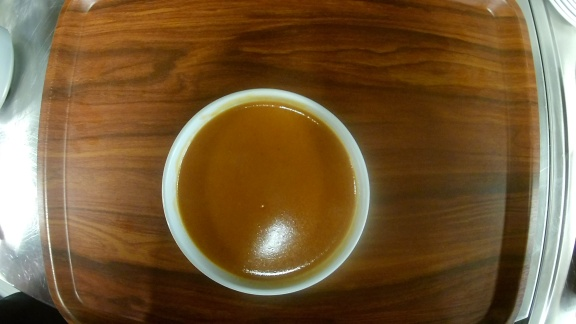domatescorba: (158, 86, 372, 297)
